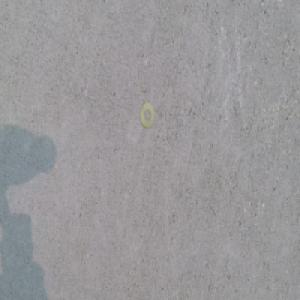Washer: (139, 105, 155, 133)
